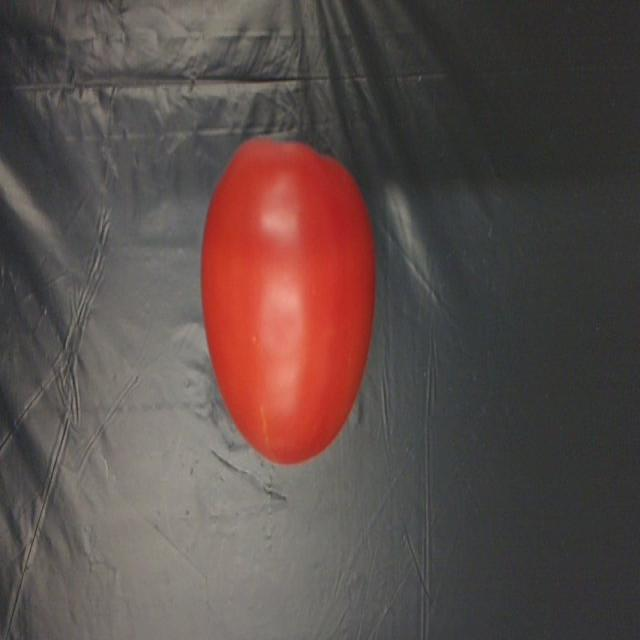kirmizi: (196, 132, 374, 468)
